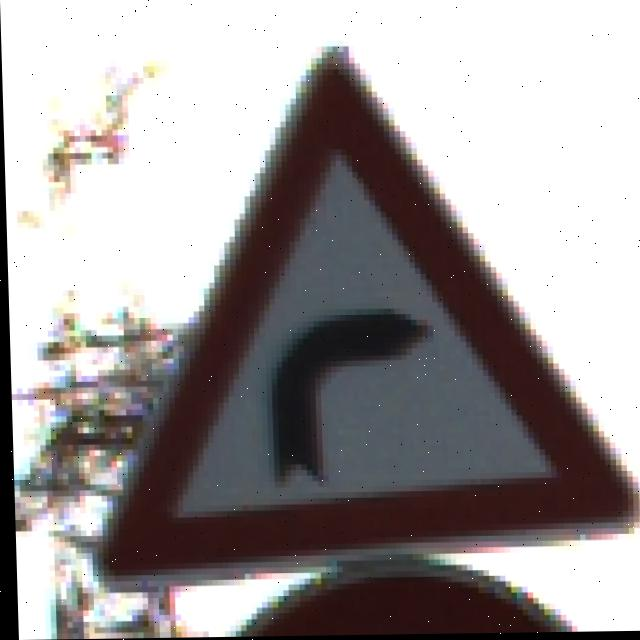right_turn: (33, 8, 640, 571)
